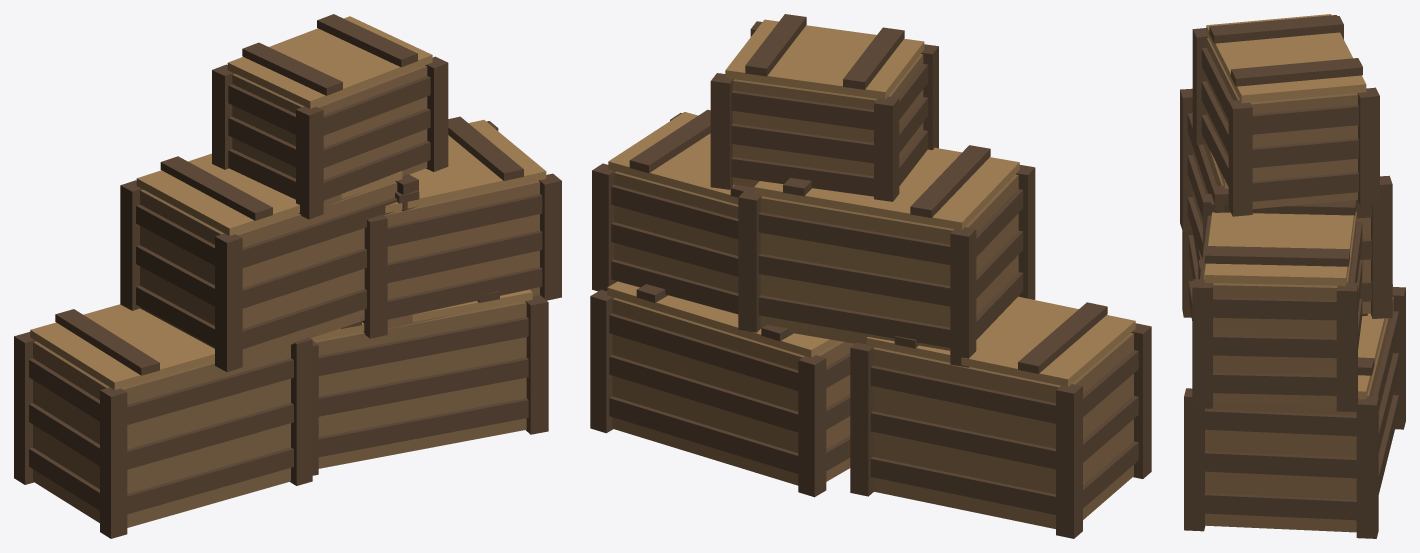
The model's file is decorativos-pila-cajas.glb.
3 views of the same model, side by side, from view 1: azimuth 30°, elevation 25°; view 2: azimuth 150°, elevation 25°; view 3: azimuth 270°, elevation 25° (orthographic). The views are drawn at different scales.
Visible parts, largest first — view 1: pila_cajas_MaderaOscura, pila_cajas_Madera, pila_cajas_MaderaClara; view 2: pila_cajas_MaderaOscura, pila_cajas_Madera, pila_cajas_MaderaClara; view 3: pila_cajas_MaderaOscura, pila_cajas_Madera, pila_cajas_MaderaClara.
Part boxes in pixels (left/top/right/bottom): pila_cajas_MaderaOscura: left=14, top=14, right=561, bottom=538; pila_cajas_Madera: left=33, top=65, right=539, bottom=527; pila_cajas_MaderaClara: left=30, top=16, right=546, bottom=389; pila_cajas_MaderaOscura: left=590, top=14, right=1151, bottom=538; pila_cajas_Madera: left=612, top=54, right=1133, bottom=528; pila_cajas_MaderaClara: left=607, top=19, right=1135, bottom=386; pila_cajas_MaderaOscura: left=1180, top=15, right=1405, bottom=538; pila_cajas_Madera: left=1193, top=37, right=1393, bottom=532; pila_cajas_MaderaClara: left=1204, top=14, right=1392, bottom=399.
Bounding box in the file's own units: 1.95 × 1.52 × 0.7814.
